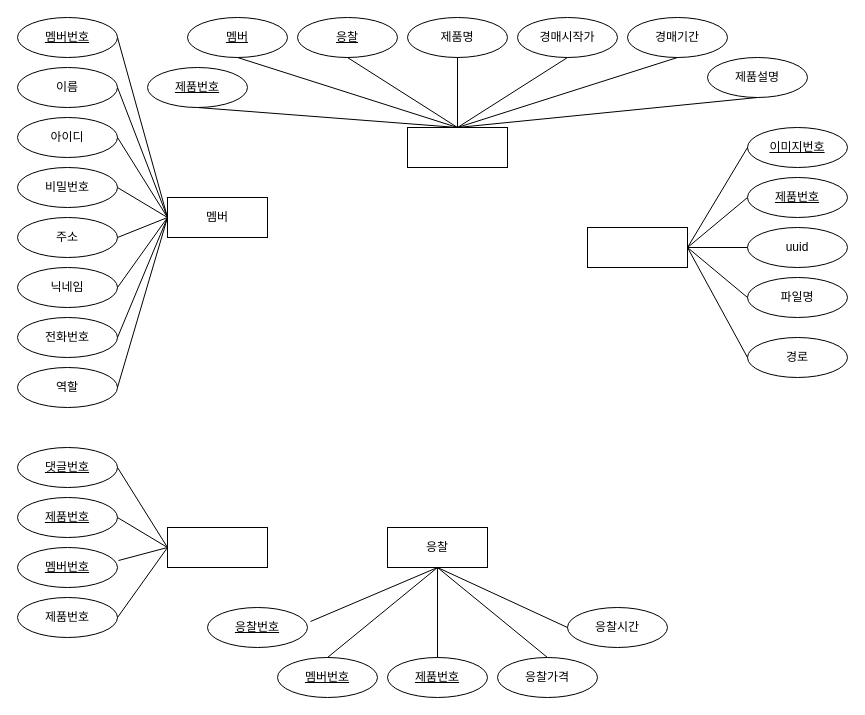
The diagram is 865 pixels wide and 715 high, and some of its shapes have lost their labels. The centre of each missing label's shape, as x and y in pixels:
"댓글" goes at (217,547).
"제품" goes at (457,147).
"제품 이미지" goes at (637,247).
